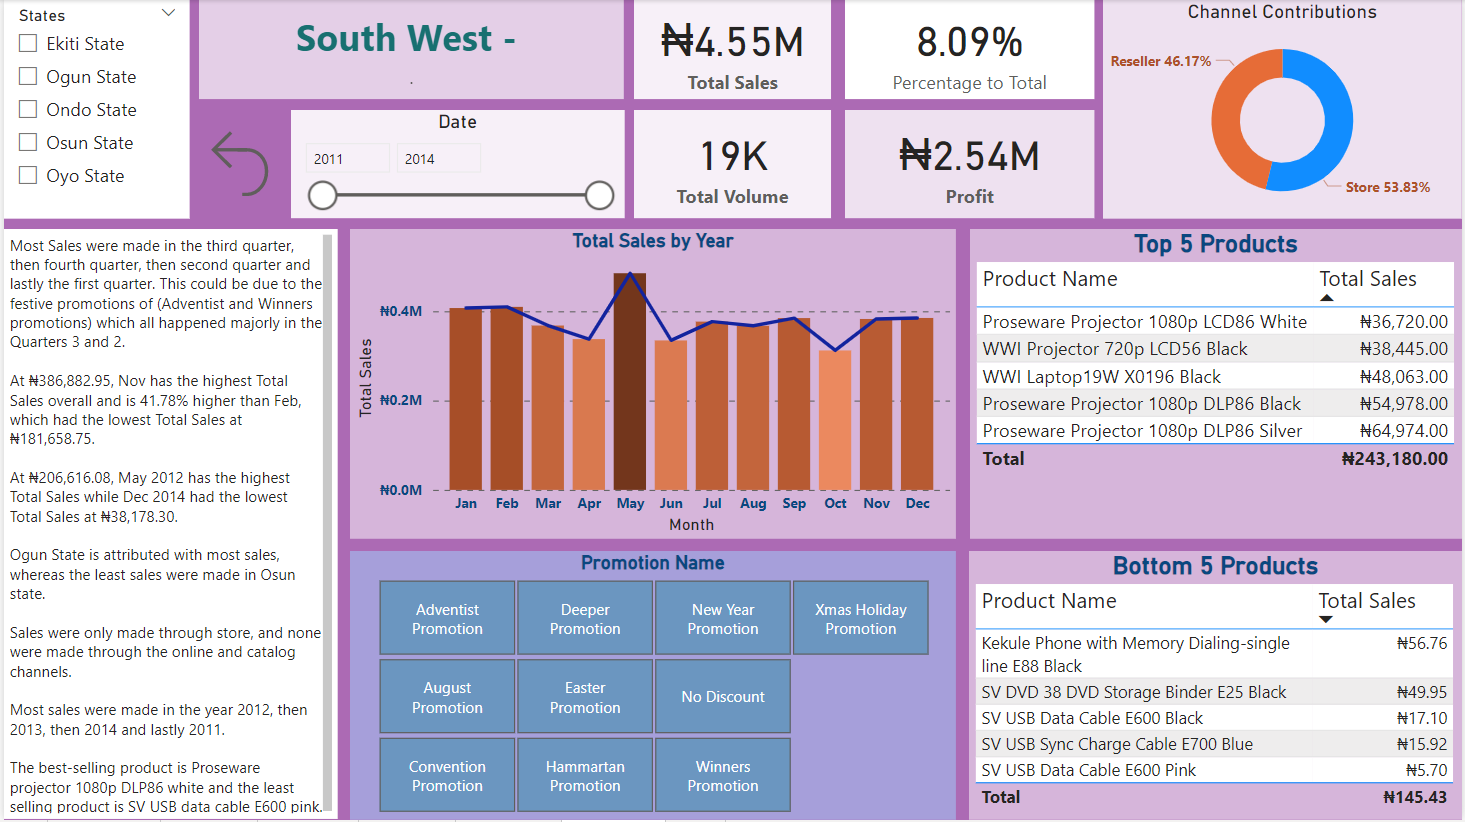

What the dashboard file says about the page in this screenshot:
{"tool":"powerbi","page":{"name":"South West","canvas":[1280,720],"ordinal":6},"visuals":[{"type":"card","fields":{"Values":["Measures (2).Total Sales"]},"box":[553.4,0,173.1,86.6],"z":0},{"type":"card","fields":{"Values":["Measures (2).Profit"]},"box":[738.2,96.3,218.8,95.3],"z":1000},{"type":"card","fields":{"Values":["Sum(Sales_Details.Order Qty)"]},"box":[553.4,96.3,173.1,95.3],"z":2000},{"type":"slicer","title":"Date","fields":{"Values":["DateKey.Year"]},"box":[251.9,96.3,292.8,95.3],"z":3000},{"type":"tableEx","title":"Top 5 Products","fields":{"Values":["Sales_Details.Product Name","Measures (2).Total Sales"]},"box":[848.1,201.3,431.9,272.3],"z":4000},{"type":"slicer","title":"Promotion Name","fields":{"Values":["Sales_Details.Promotion Name"]},"box":[303.5,483.4,532,236.4],"z":5000},{"type":"card","fields":{"Values":["Measures (2).Channel to Product Contribution"]},"box":[738.2,0,218.8,86.6],"z":7000},{"type":"donutChart","title":"Channel Contributions","fields":{"Y":["Measures (2).Total Sales"],"Category":["Sales_Details.Channel"]},"box":[964.9,0,315.1,191.6],"z":8000},{"type":"slicer","fields":{"Values":["Sales_Details.States"]},"box":[0,0,163.4,191.6],"z":9000},{"type":"lineStackedColumnComboChart","title":"Total Sales by Year","fields":{"Category":["DateKey.Year","DateKey.Month","DateKey.Quarters"],"Y":["Measures (2).Total Sales"],"Y2":["Measures (2).Total Sales"]},"box":[303.5,201.3,532,272.3],"z":10000},{"type":"tableEx","title":"Bottom 5 Products","fields":{"Values":["Sales_Details.Product Name","Measures (2).Total Sales"]},"box":[847.2,483.4,432.8,236.4],"z":11000},{"type":"textbox","box":[0,201.3,292.8,518.4],"z":12000},{"type":"actionButton","box":[171.4,95.9,72.2,95.9],"z":13000},{"type":"card","fields":{"Values":["Sales_Details.Title"]},"box":[171.2,0,373.5,86.6],"z":14000}]}

Visuals, with their boxes in screenshot pixels (x1, y1, x2, y2), scaled from the page's 1280x720 canvas onto the 1465x822 screenshot:
card - Measures (2).Total Sales: {"x1": 633, "y1": 0, "x2": 832, "y2": 99}
card - Measures (2).Profit: {"x1": 845, "y1": 110, "x2": 1095, "y2": 219}
card - Sum(Sales_Details.Order Qty): {"x1": 633, "y1": 110, "x2": 832, "y2": 219}
"Date" slicer: {"x1": 288, "y1": 110, "x2": 623, "y2": 219}
"Top 5 Products" tableEx: {"x1": 971, "y1": 230, "x2": 1464, "y2": 541}
"Promotion Name" slicer: {"x1": 347, "y1": 552, "x2": 956, "y2": 821}
card - Measures (2).Channel to Product Contribution: {"x1": 845, "y1": 0, "x2": 1095, "y2": 99}
"Channel Contributions" donutChart: {"x1": 1104, "y1": 0, "x2": 1464, "y2": 219}
slicer - Sales_Details.States: {"x1": 0, "y1": 0, "x2": 187, "y2": 219}
"Total Sales by Year" lineStackedColumnComboChart: {"x1": 347, "y1": 230, "x2": 956, "y2": 541}
"Bottom 5 Products" tableEx: {"x1": 970, "y1": 552, "x2": 1464, "y2": 821}
textbox: {"x1": 0, "y1": 230, "x2": 335, "y2": 821}
actionButton: {"x1": 196, "y1": 109, "x2": 279, "y2": 219}
card - Sales_Details.Title: {"x1": 196, "y1": 0, "x2": 623, "y2": 99}
